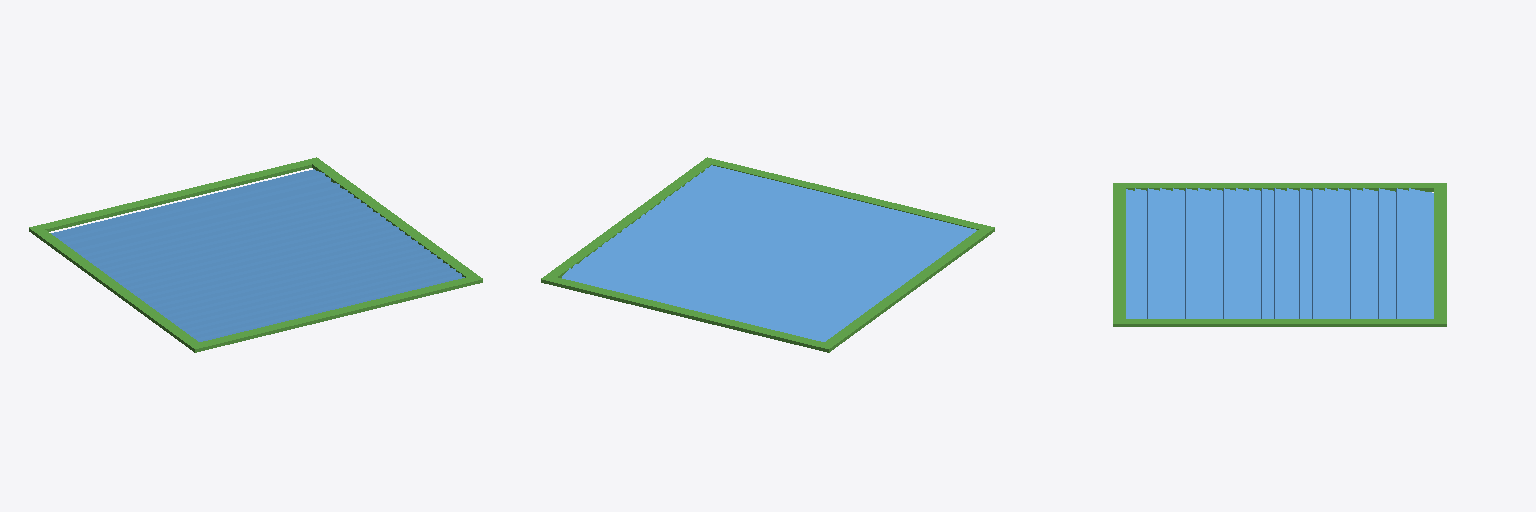
Rendered from vent.obj.
The picture shows the model from 3 angles: view 1: azimuth 30°, elevation 25°; view 2: azimuth 150°, elevation 25°; view 3: azimuth 270°, elevation 25°; orthographic projection.
Visible parts, largest first — view 1: Object.3, Object.5, Object.4, Object.1, Object.7, Object.8, Object.2, Object.6, Object.21, Object.13, Object.19, Object.9 (+15 smaller); view 2: Object.5, Object.4, Object.1, Object.7, Object.8, Object.3, Object.2, Object.11, Object.14, Object.16, Object.17, Object.19 (+15 smaller); view 3: Object.5, Object.2, Object.7, Object.1, Object.8, Object.3, Object.4, Object.6, Object.9, Object.12, Object.15, Object.18 (+15 smaller).
Part boxes in pixels (left/top/right/bottom): Object.3: left=189, top=275, right=482, bottom=352; Object.5: left=51, top=169, right=324, bottom=240; Object.4: left=40, top=157, right=322, bottom=231; Object.1: left=29, top=225, right=205, bottom=352; Object.7: left=67, top=181, right=339, bottom=251; Object.8: left=77, top=188, right=347, bottom=257; Object.2: left=312, top=162, right=482, bottom=284; Object.6: left=62, top=176, right=330, bottom=244; Object.21: left=160, top=249, right=430, bottom=317; Object.13: left=109, top=212, right=379, bottom=280; Object.19: left=148, top=239, right=417, bottom=308; Object.9: left=84, top=193, right=353, bottom=261; Object.5: left=562, top=268, right=836, bottom=341; Object.4: left=541, top=275, right=833, bottom=349; Object.1: left=818, top=225, right=994, bottom=352; Object.7: left=579, top=257, right=851, bottom=328; Object.8: left=587, top=252, right=859, bottom=321; Object.3: left=701, top=157, right=994, bottom=234; Object.2: left=541, top=162, right=711, bottom=284; Object.11: left=607, top=238, right=878, bottom=306; Object.14: left=626, top=224, right=896, bottom=292; Object.16: left=640, top=214, right=909, bottom=283; Object.17: left=646, top=210, right=915, bottom=278; Object.19: left=659, top=200, right=929, bottom=269; Object.5: left=1409, top=188, right=1433, bottom=318; Object.2: left=1116, top=319, right=1446, bottom=326; Object.7: left=1378, top=188, right=1395, bottom=318; Object.1: left=1113, top=183, right=1446, bottom=191; Object.8: left=1363, top=188, right=1377, bottom=318; Object.3: left=1113, top=188, right=1125, bottom=326; Object.4: left=1434, top=188, right=1446, bottom=323; Object.6: left=1396, top=188, right=1408, bottom=318; Object.9: left=1350, top=188, right=1362, bottom=318; Object.12: left=1312, top=188, right=1324, bottom=318; Object.15: left=1274, top=188, right=1286, bottom=318; Object.18: left=1236, top=188, right=1248, bottom=318.
Bounding box in the file's own units: 40 × 0.6879 × 40.